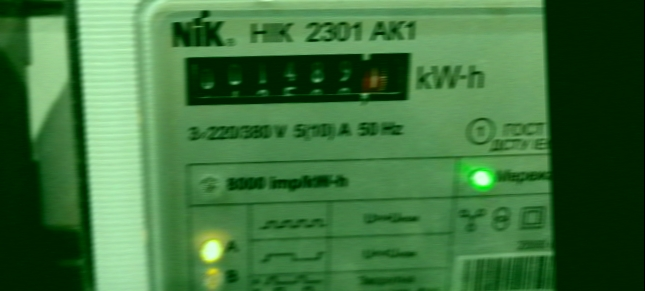0: (225, 60, 242, 86), (198, 65, 214, 91)
1: (254, 58, 269, 88), (366, 60, 379, 90)
4: (281, 58, 298, 85)
8: (307, 57, 325, 85)
9: (336, 58, 352, 83)
screen: (169, 37, 427, 123)
